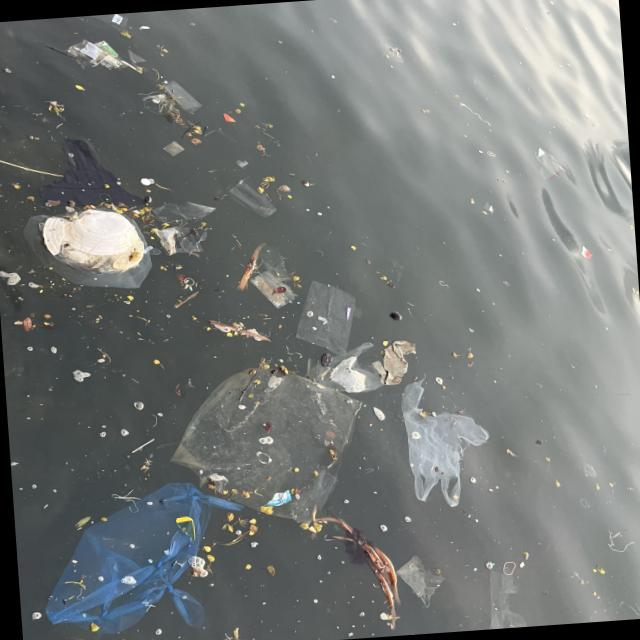foam: (43, 210, 140, 262)
plastic bag: (174, 359, 363, 527), (395, 376, 488, 507)
